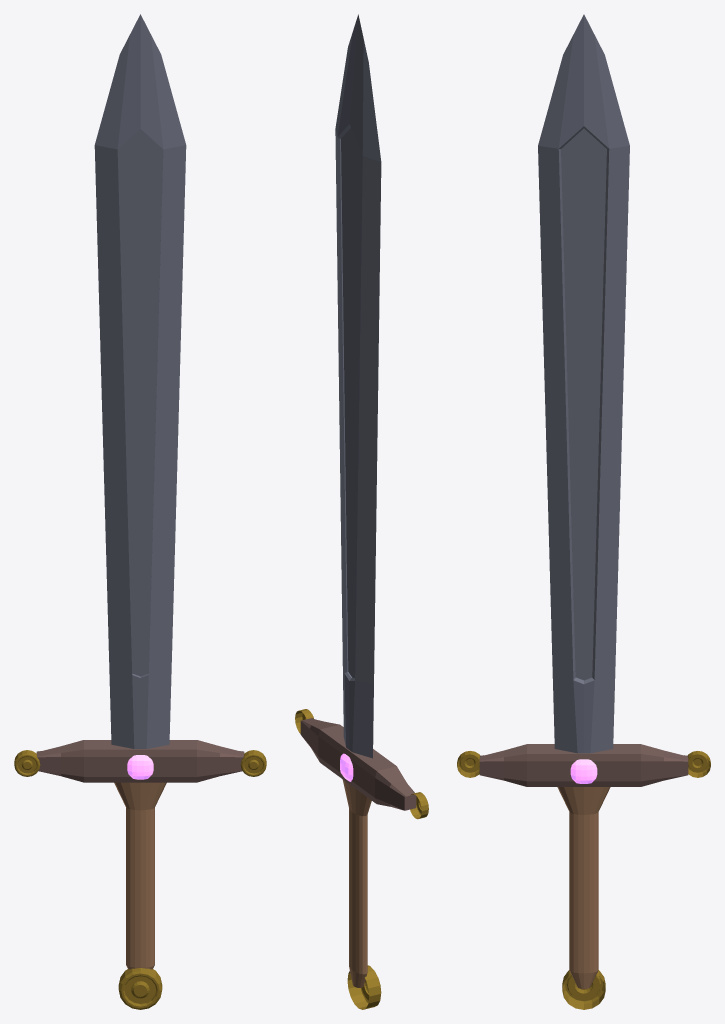
File: Sword.fbx
3 renders of one model, left to right at view 1: azimuth 90°, elevation 25°; view 2: azimuth 210°, elevation 25°; view 3: azimuth 270°, elevation 25°, orthographic.
Visible parts, largest first — view 1: Blade; view 2: Blade; view 3: Blade.
Part boxes in pixels (x1=…): Blade: x1=14, y1=14, x2=266, y2=1009; Blade: x1=295, y1=14, x2=428, y2=1009; Blade: x1=457, y1=14, x2=710, y2=1009.
Size of the model in its own units: 0.048 by 1.51 by 0.349.
